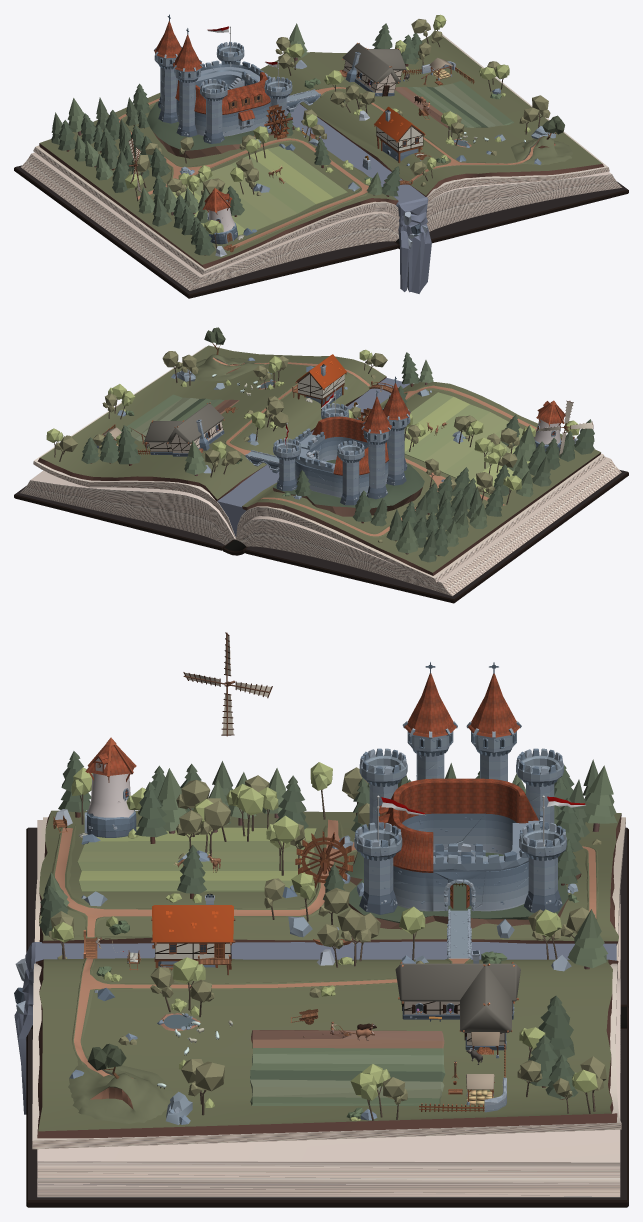
Rendered from book.gltf.
3 renders of one model, top to bottom at view 1: azimuth 30°, elevation 25°; view 2: azimuth 150°, elevation 25°; view 3: azimuth 270°, elevation 25°, orthographic. The views are drawn at different scales.
Visible parts, largest first — view 1: Scene, Waterfall, Mill-water-wheel; view 2: Scene, Waterfall, Mill-wind-wheel; view 3: Scene, Waterfall, Mill-water-wheel, Mill-wind-wheel.
Part boxes in pixels (x1,y1,x2,y2): Scene: [14, 14, 628, 298]; Waterfall: [286, 103, 431, 293]; Mill-water-wheel: [264, 104, 292, 139]; Scene: [14, 327, 628, 603]; Waterfall: [217, 377, 409, 537]; Mill-wind-wheel: [536, 400, 593, 455]; Scene: [14, 662, 628, 1207]; Waterfall: [14, 941, 616, 1114]; Mill-water-wheel: [295, 831, 354, 888]; Mill-wind-wheel: [183, 632, 272, 736].
Size of the model in its own units: 106 by 46.41 by 72.32.
Materials: 3 (3 with a texture image).
